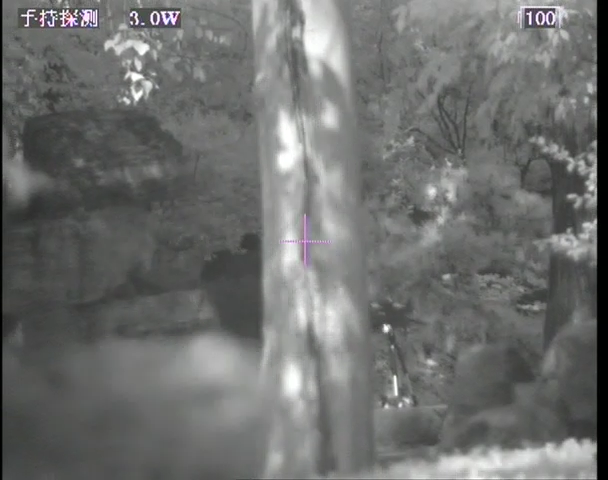my: (379, 321, 394, 336)
